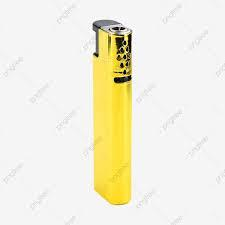lighter: (90, 16, 133, 208)
